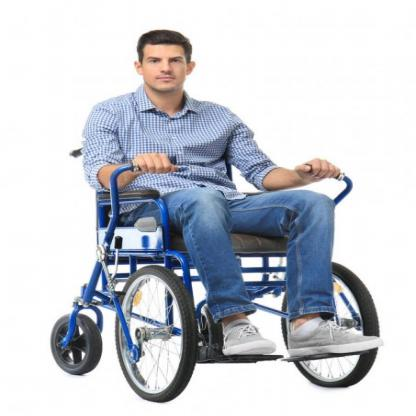wheelchair: (52, 28, 385, 402)
